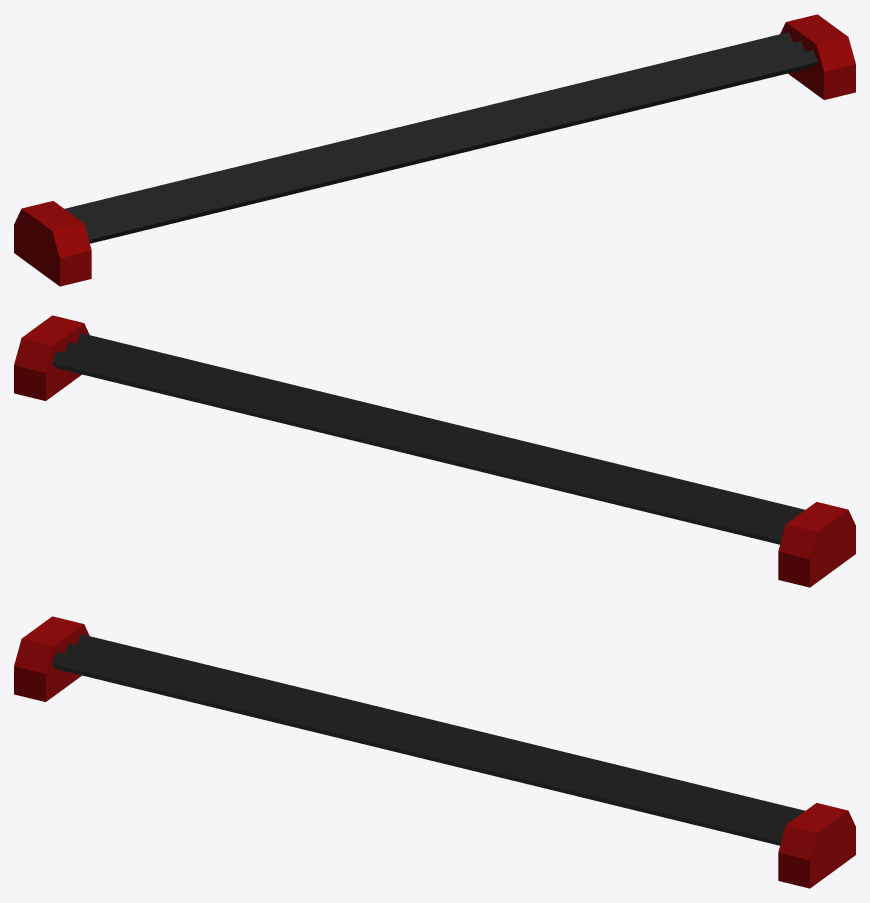
Rendered from SM_Conduit_S.fbx.
3 views of the same model, one above another, from view 1: azimuth 30°, elevation 25°; view 2: azimuth 150°, elevation 25°; view 3: azimuth 330°, elevation 25° (orthographic).
Parts seen in each view (by area): view 1: group_0.001; view 2: group_0.001; view 3: group_0.001.
Boxes of the visible parts, x1,y1,x2,y2 form: group_0.001: [14, 14, 855, 286]; group_0.001: [14, 315, 855, 587]; group_0.001: [14, 616, 855, 888].
Size of the model in its own units: 250 by 15 by 25.
